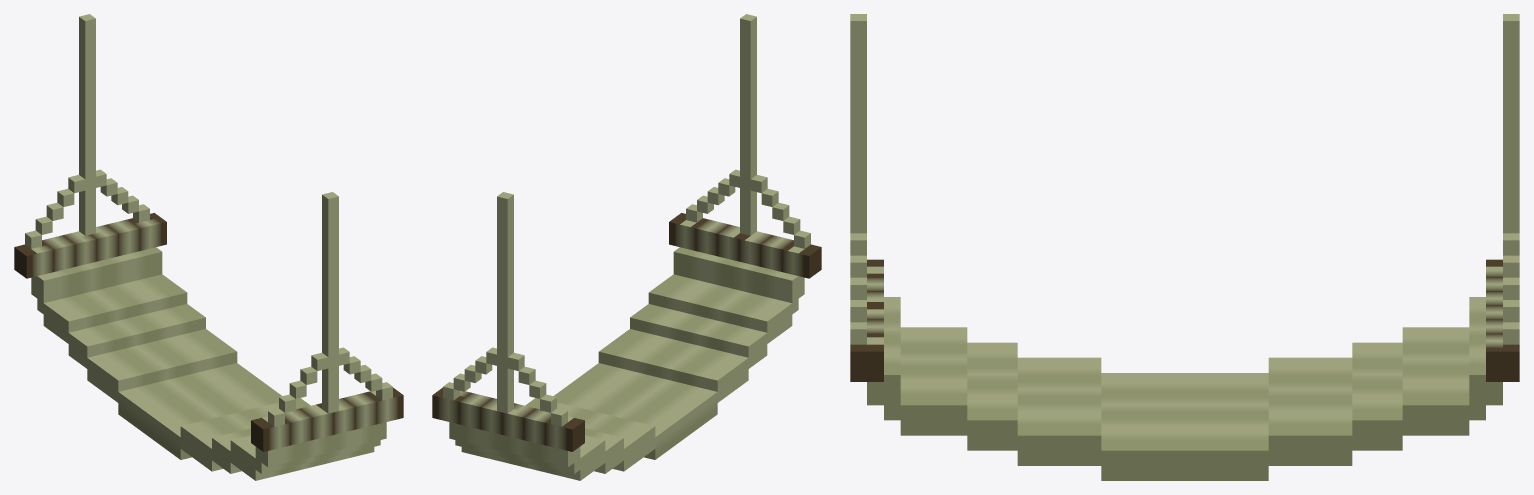
The model's file is Bed_Hammock_00.fbx.
3 renders of one model, left to right at view 1: azimuth 30°, elevation 25°; view 2: azimuth 150°, elevation 25°; view 3: azimuth 270°, elevation 25°, orthographic. The views are drawn at different scales.
Parts seen in each view (by area): view 1: Bed_Hammock_00; view 2: Bed_Hammock_00; view 3: Bed_Hammock_00.
Boxes of the visible parts, x1,y1,x2,y2 form: Bed_Hammock_00: (14,14,403,480); Bed_Hammock_00: (432,14,821,480); Bed_Hammock_00: (850,14,1519,480).
Size of the model in its own units: 65 by 140 by 200.
